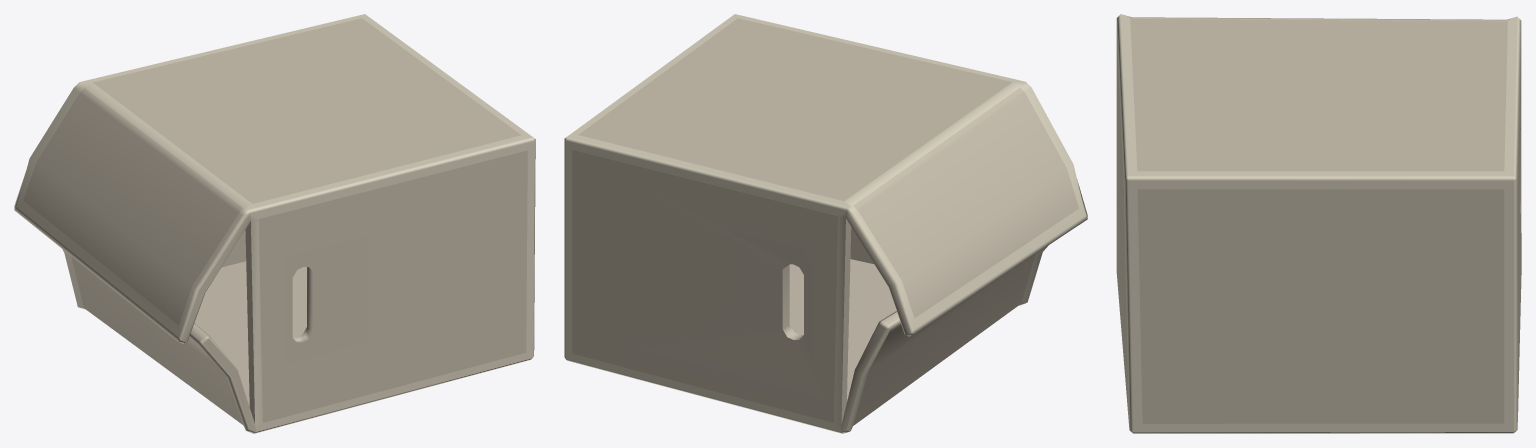
File: BoxD.glb
3 views of the same model, side by side, from view 1: azimuth 30°, elevation 25°; view 2: azimuth 150°, elevation 25°; view 3: azimuth 270°, elevation 25° (orthographic). The views are drawn at different scales.
Parts seen in each view (by area): view 1: BoxD; view 2: BoxD; view 3: BoxD.
Part boxes in pixels (box(x1,y1,x2,y2)): BoxD: box(14, 14, 535, 433); BoxD: box(564, 14, 1087, 433); BoxD: box(1116, 14, 1521, 433).
Bounding box in the file's own units: 2.81 × 1.72 × 2.4.
